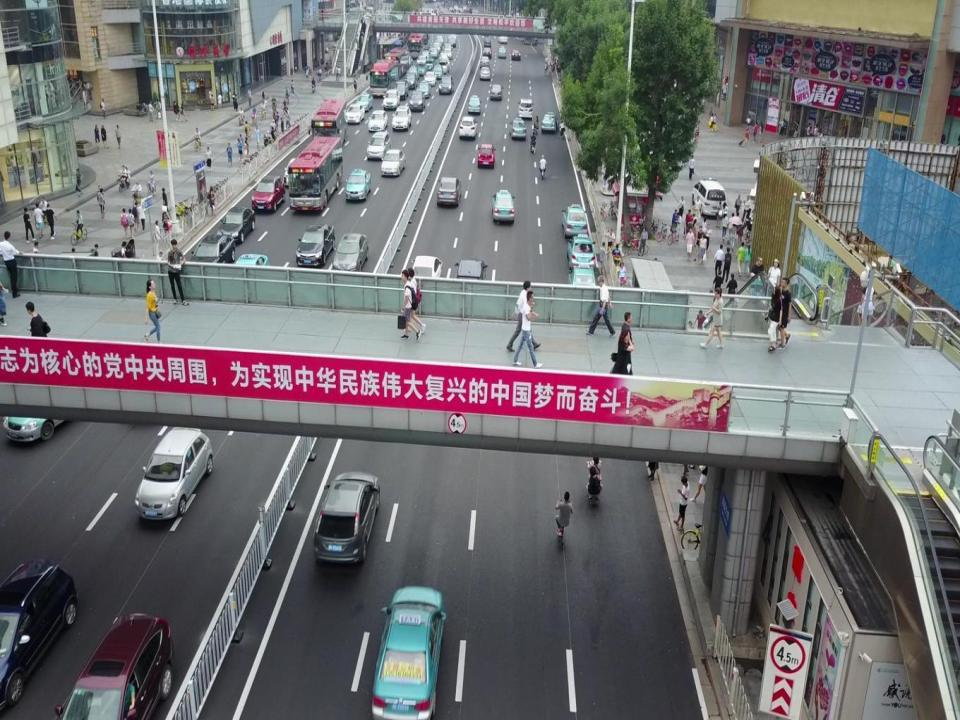bus: (287, 134, 343, 216), (310, 98, 349, 152), (369, 58, 400, 98), (385, 45, 409, 76), (406, 22, 426, 58)
car: (56, 609, 173, 720), (0, 562, 75, 714), (376, 581, 445, 720), (134, 428, 217, 522), (2, 365, 106, 440), (314, 473, 378, 565), (187, 233, 237, 271), (294, 222, 336, 266), (410, 256, 443, 312), (224, 253, 269, 294), (454, 259, 488, 309), (332, 232, 368, 278), (218, 205, 254, 244), (693, 177, 727, 218), (252, 176, 284, 213), (567, 233, 596, 273), (492, 189, 516, 226), (345, 168, 371, 202), (562, 204, 586, 239), (366, 130, 391, 161), (436, 177, 462, 206), (381, 149, 406, 178), (476, 142, 497, 168), (392, 106, 412, 132), (508, 118, 528, 140), (367, 110, 387, 131), (345, 104, 364, 125), (352, 93, 374, 111), (458, 118, 478, 137), (382, 89, 400, 109), (541, 114, 557, 134), (394, 79, 408, 101), (409, 91, 425, 109), (439, 76, 454, 95), (403, 72, 416, 92), (467, 95, 481, 113), (424, 70, 437, 88), (405, 67, 418, 85), (417, 82, 431, 98), (490, 85, 503, 102), (433, 64, 443, 82), (417, 60, 427, 77), (480, 64, 490, 80), (417, 54, 428, 68), (438, 62, 449, 74), (482, 46, 491, 58), (444, 48, 453, 60), (429, 46, 437, 59), (512, 51, 521, 62), (432, 42, 440, 54), (498, 48, 506, 59), (480, 55, 488, 66), (448, 37, 456, 48), (436, 34, 444, 45), (483, 39, 491, 48)
van: (517, 97, 534, 121)
